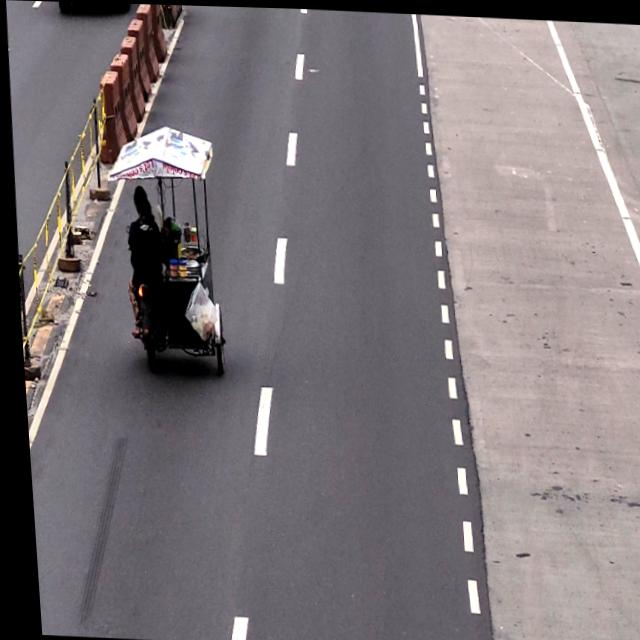Tricycle: (103, 138, 232, 382)
